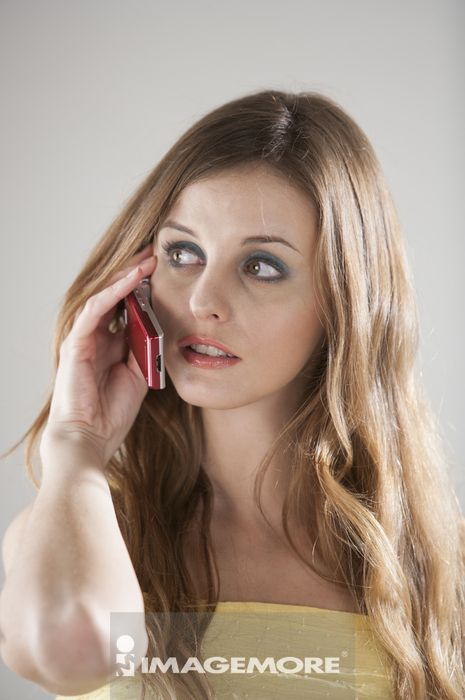talk: (39, 208, 309, 474)
